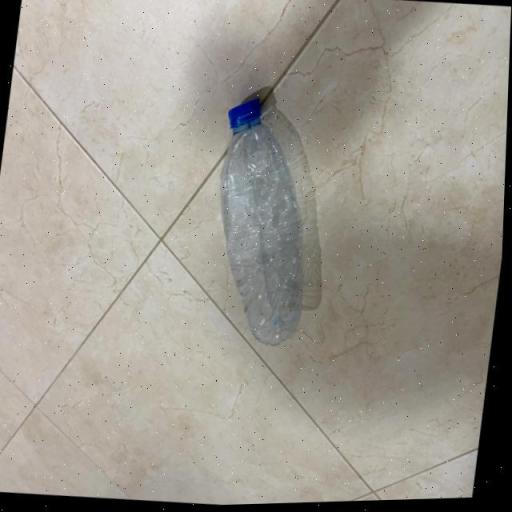plastic: (198, 90, 331, 356)
